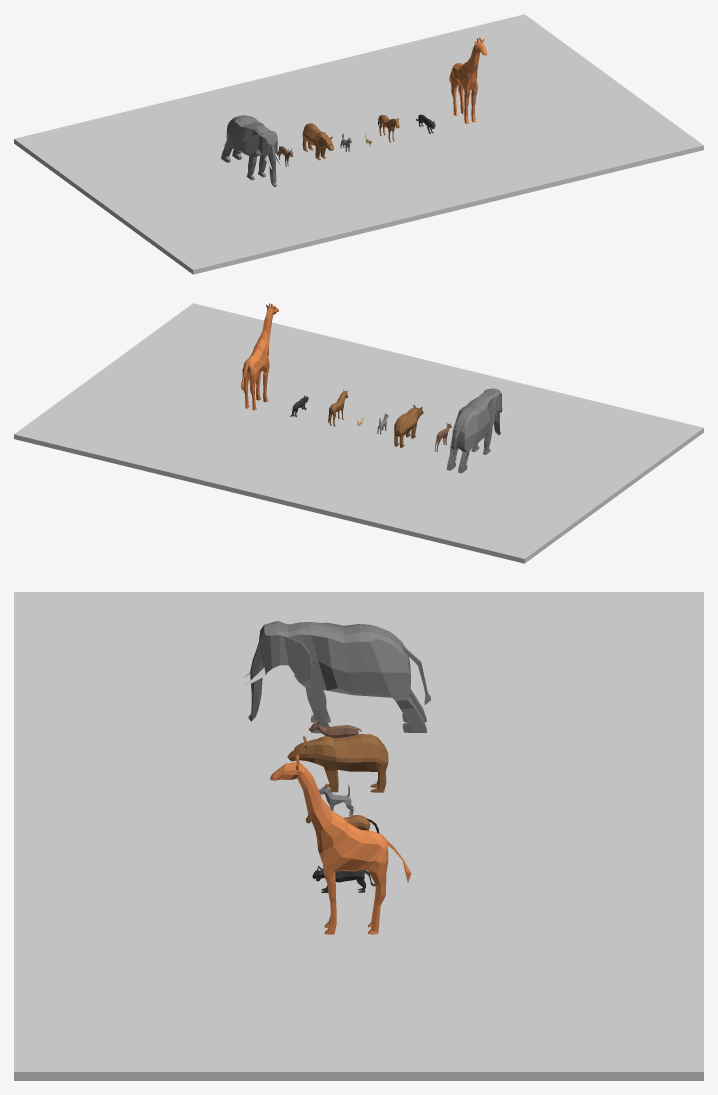
Rendered from Elephant.gltf.
3 renders of one model, top to bottom at view 1: azimuth 30°, elevation 25°; view 2: azimuth 150°, elevation 25°; view 3: azimuth 270°, elevation 25°, orthographic. The views are drawn at different scales.
Parts seen in each view (by area): view 1: Cube, Plane.004, Plane.005, Plane; view 2: Cube, Plane.004, Plane.005, Plane; view 3: Cube, Plane.004, Plane.005, Plane.
Part boxes in pixels (left/top/right/bottom): Cube: left=14, top=14, right=703, bottom=274; Plane.004: left=221, top=115, right=281, bottom=186; Plane.005: left=449, top=37, right=487, bottom=124; Plane: left=302, top=123, right=333, bottom=160; Cube: left=14, top=303, right=703, bottom=563; Plane.004: left=446, top=388, right=505, bottom=473; Plane.005: left=241, top=303, right=278, bottom=410; Plane: left=394, top=405, right=423, bottom=447; Cube: left=14, top=592, right=703, bottom=1080; Plane.004: left=244, top=621, right=430, bottom=733; Plane.005: left=270, top=754, right=411, bottom=934; Plane: left=287, top=734, right=388, bottom=792.
Bounding box in the file's own units: 42.87 × 7.63 × 26.05.
